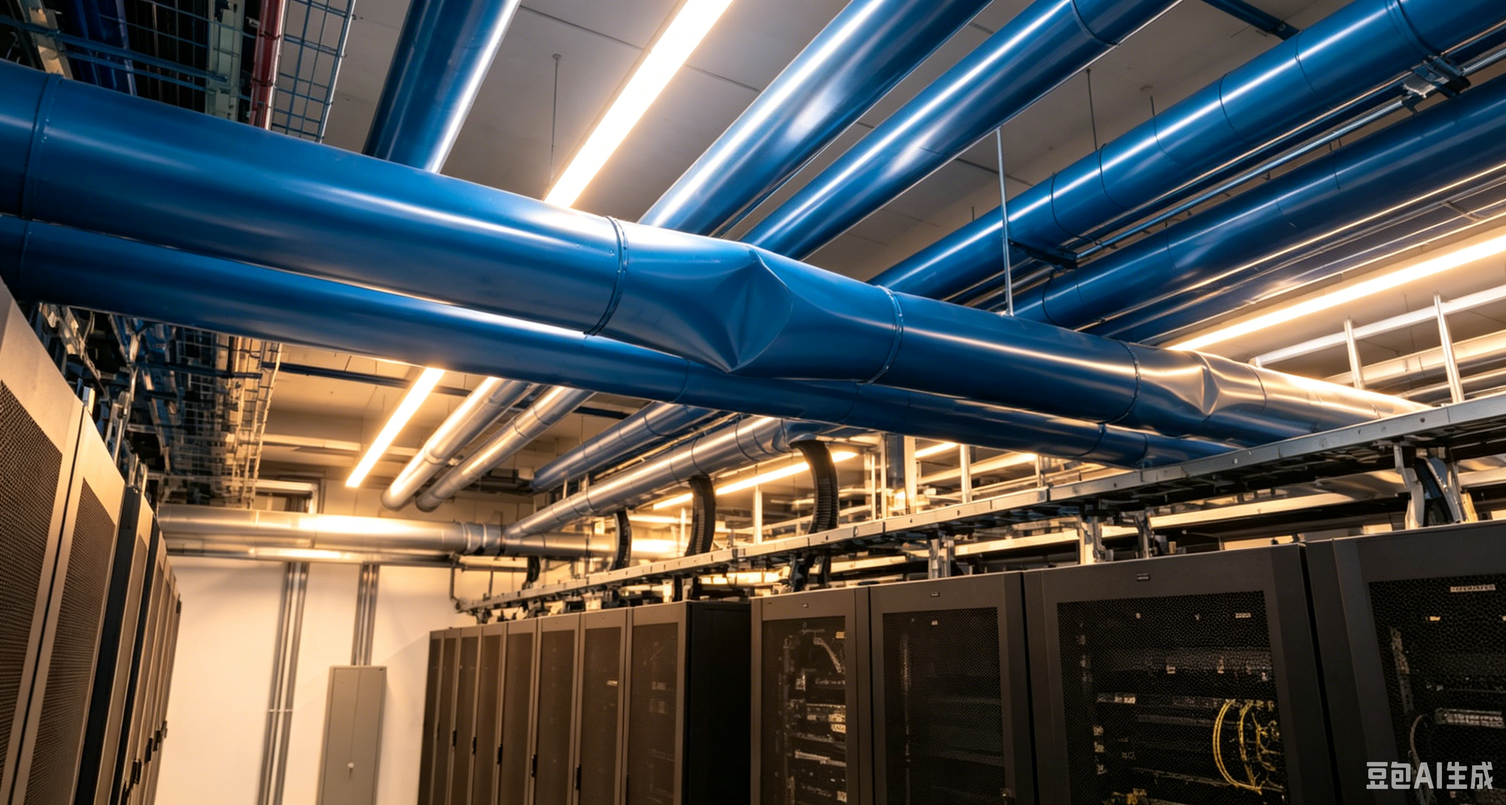Leakage: (684, 246, 811, 372), (1172, 356, 1244, 425)
